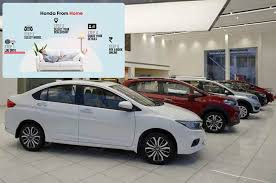Honda: (7, 80, 205, 167)
